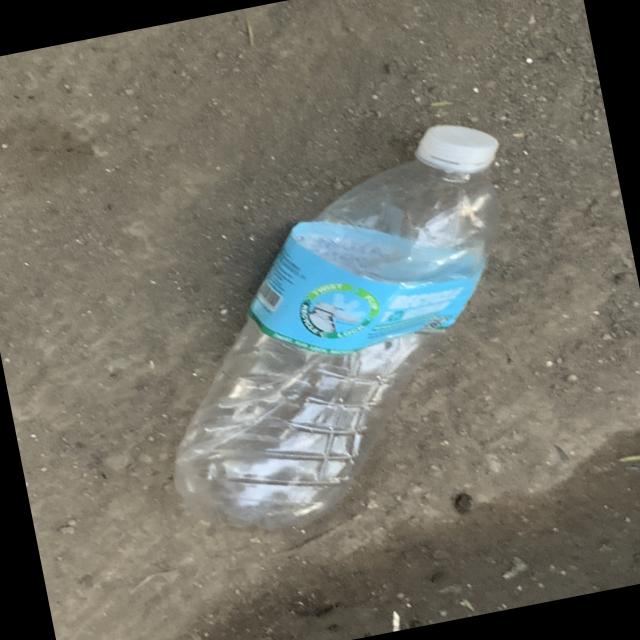Bottle: (175, 125, 498, 529)
